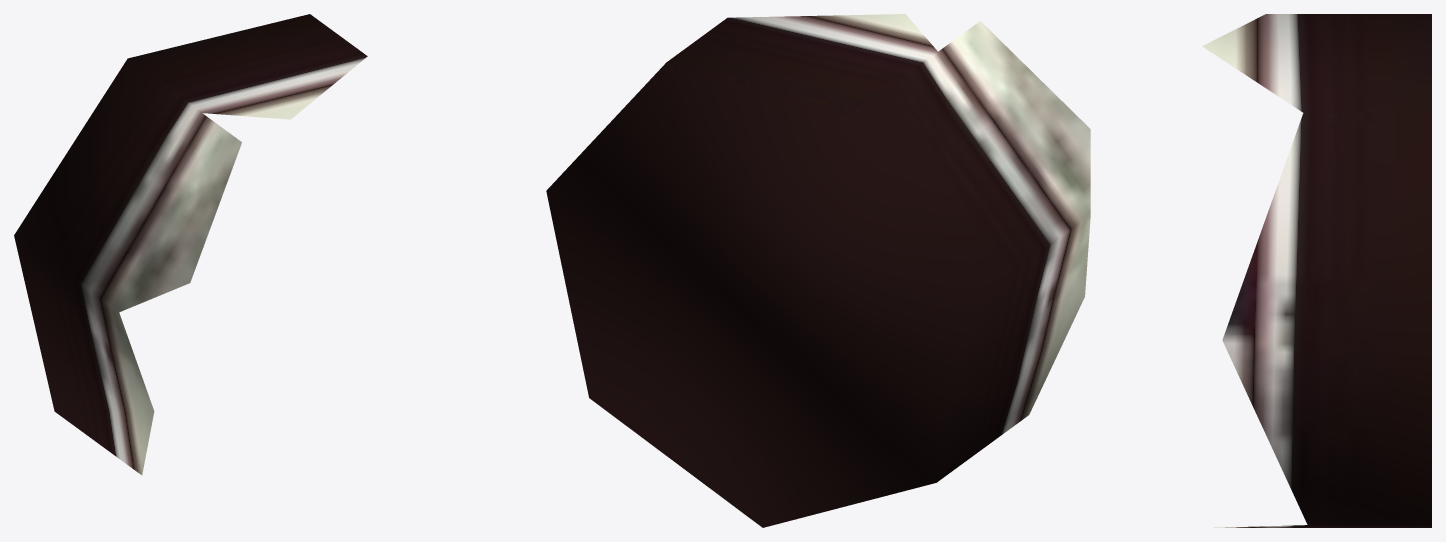
File: prop_winebottle_broken_bot.glb
The picture shows the model from 3 angles, left to right: view 1: azimuth 30°, elevation 25°; view 2: azimuth 150°, elevation 25°; view 3: azimuth 270°, elevation 25°; orthographic projection. The views are drawn at different scales.
Size of the model in its own units: 3.58 by 3.49 by 2.13.
Materials: 1 (1 with a texture image).
